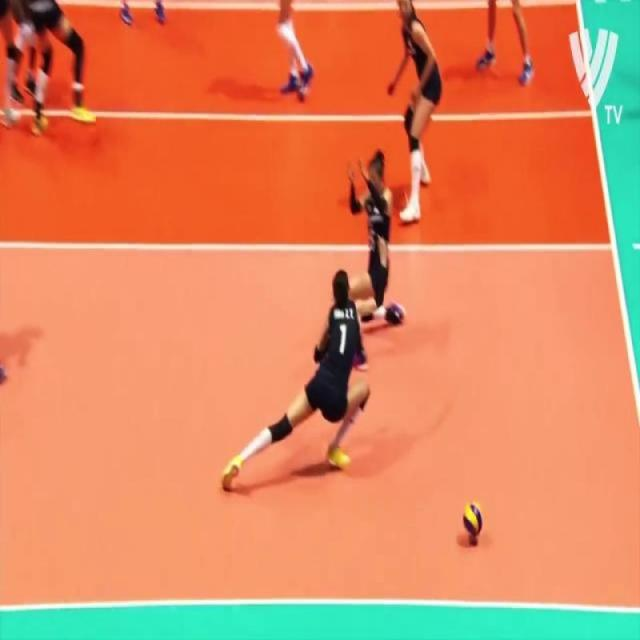volleyball: (460, 503, 487, 542)
